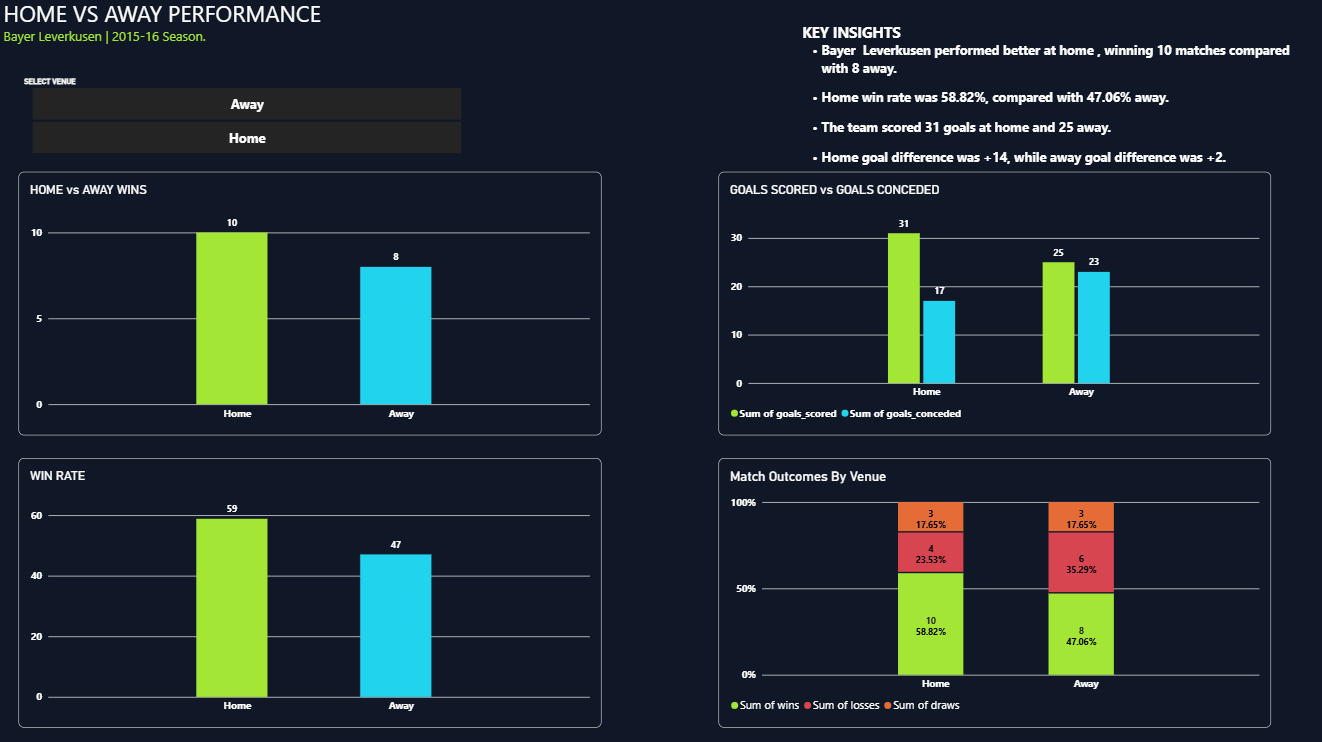

The page's visual inventory and layout, read from the dashboard file:
{"tool":"powerbi","page":{"name":"Home vs Away Analysis","canvas":[1920,1080],"ordinal":1},"visuals":[{"type":"textbox","box":[10.8,0,493.4,71.4],"z":0},{"type":"clusteredColumnChart","title":"HOME vs AWAY WINS","fields":{"Category":["public bayer_home_away_summary.venue"],"Y":["Sum(public bayer_home_away_summary.wins)"]},"box":[32.6,251.2,844.2,381.4],"z":1000},{"type":"clusteredColumnChart","title":"GOALS SCORED vs GOALS CONCEDED","fields":{"Category":["public bayer_home_away_summary.venue"],"Y":["Sum(public bayer_home_away_summary.goals_scored)","Sum(public bayer_home_away_summary.goals_conceded)"]},"box":[1046.5,251.2,800,381.4],"z":2000},{"type":"clusteredColumnChart","title":"WIN RATE","fields":{"Category":["public bayer_home_away_summary.venue"],"Y":["Avg(public bayer_home_away_summary.win_percentage)"]},"box":[32.6,665.1,844.2,390.7],"z":3000},{"type":"hundredPercentStackedColumnChart","title":"Match Outcomes By Venue","fields":{"Category":["public bayer_home_away_summary.venue"],"Y":["Sum(public bayer_home_away_summary.wins)","Sum(public bayer_home_away_summary.losses)","Sum(public bayer_home_away_summary.draws)"]},"box":[1046.5,665.1,800,390.7],"z":4000},{"type":"slicer","fields":{"Values":["public bayer_home_away_summary.venue"]},"box":[32.6,114,660.1,112.5],"z":5000},{"type":"textbox","box":[1167.4,34.9,711.6,216.3],"z":6000}]}

Visuals, with their boxes in screenshot pixels (x1, y1, x2, y2), scaled from the page's 1920x1080 canvas onto the 1322x742 screenshot:
textbox: 7, 0, 347, 49
"HOME vs AWAY WINS" clusteredColumnChart: 22, 173, 604, 435
"GOALS SCORED vs GOALS CONCEDED" clusteredColumnChart: 721, 173, 1271, 435
"WIN RATE" clusteredColumnChart: 22, 457, 604, 725
"Match Outcomes By Venue" hundredPercentStackedColumnChart: 721, 457, 1271, 725
slicer - public bayer_home_away_summary.venue: 22, 78, 477, 156
textbox: 804, 24, 1294, 173
